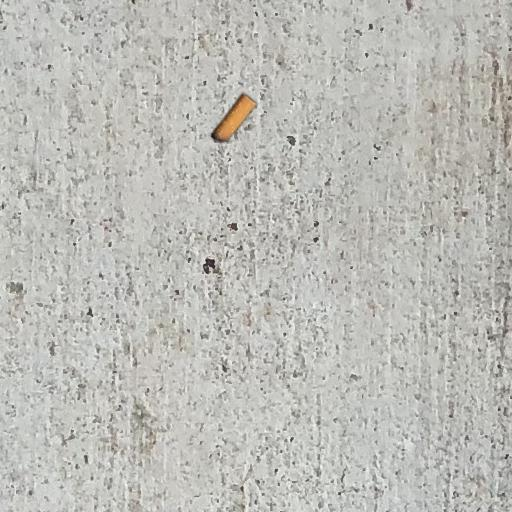smoke: (212, 94, 255, 142)
